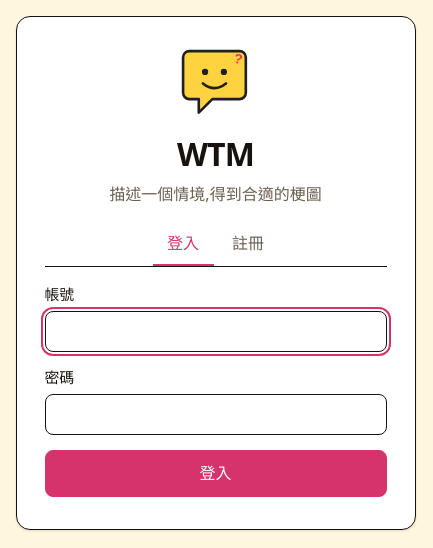
Test case: LoginPage › says it is waiting while it signs in
Type "frank" into the field labelled "帳號" at (216, 331), box [44,311,386,352]
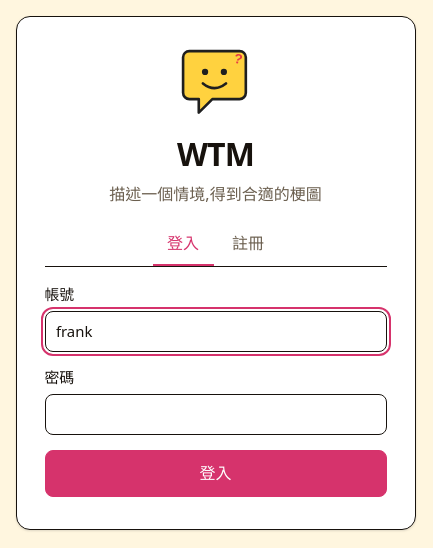
Type "secret123" into the password field labelled "密碼" at (216, 415), box [44,394,386,435]
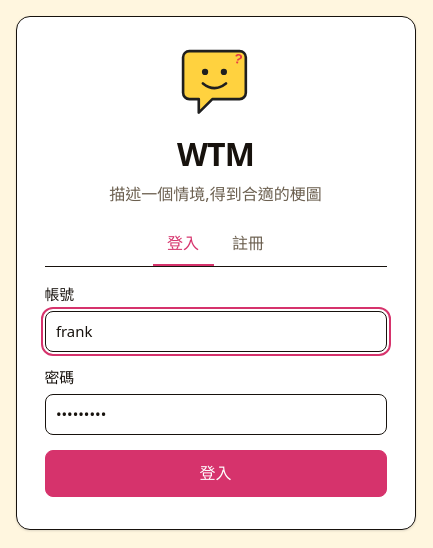
Click the button "登入" at (216, 473), box [44,450,386,497]
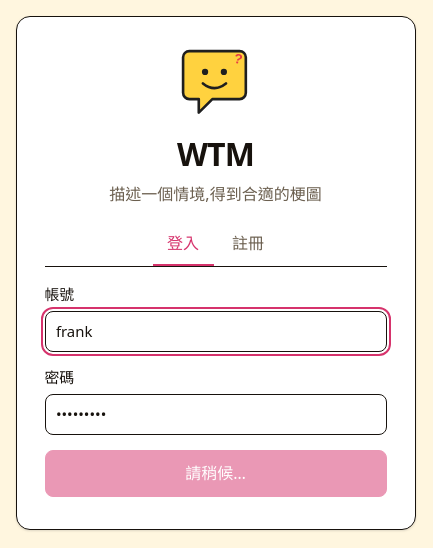
Result: the button "請稍候…" is disabled at [44,450,386,497]
